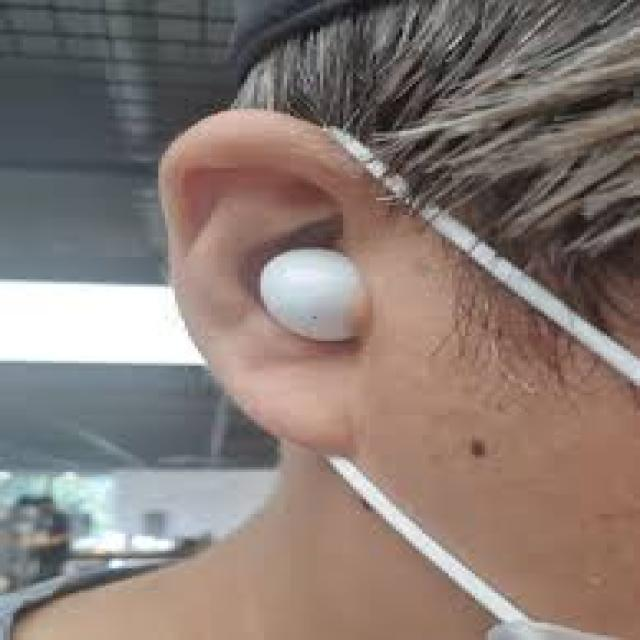earphone: (234, 215, 384, 372)
